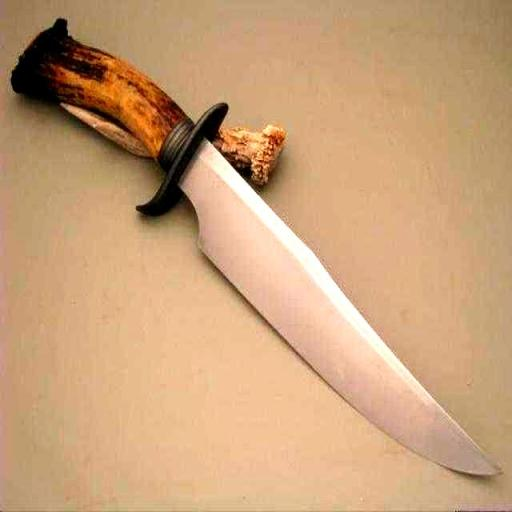knife: (12, 13, 510, 494)
